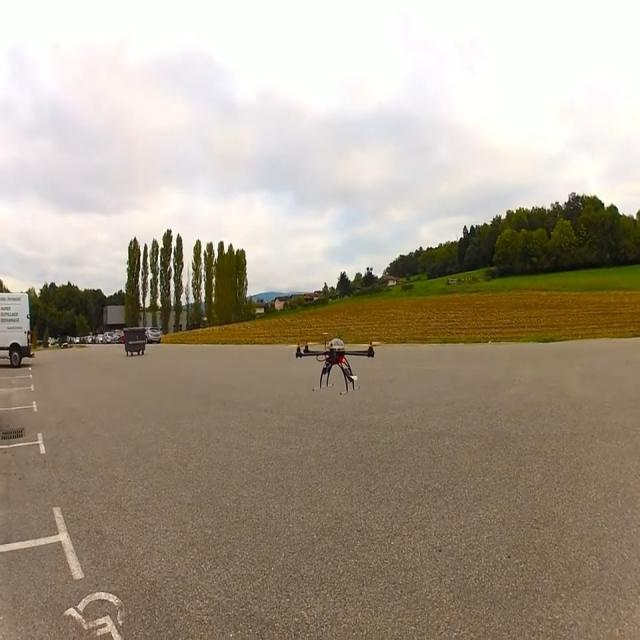drone: (294, 336, 374, 393)
